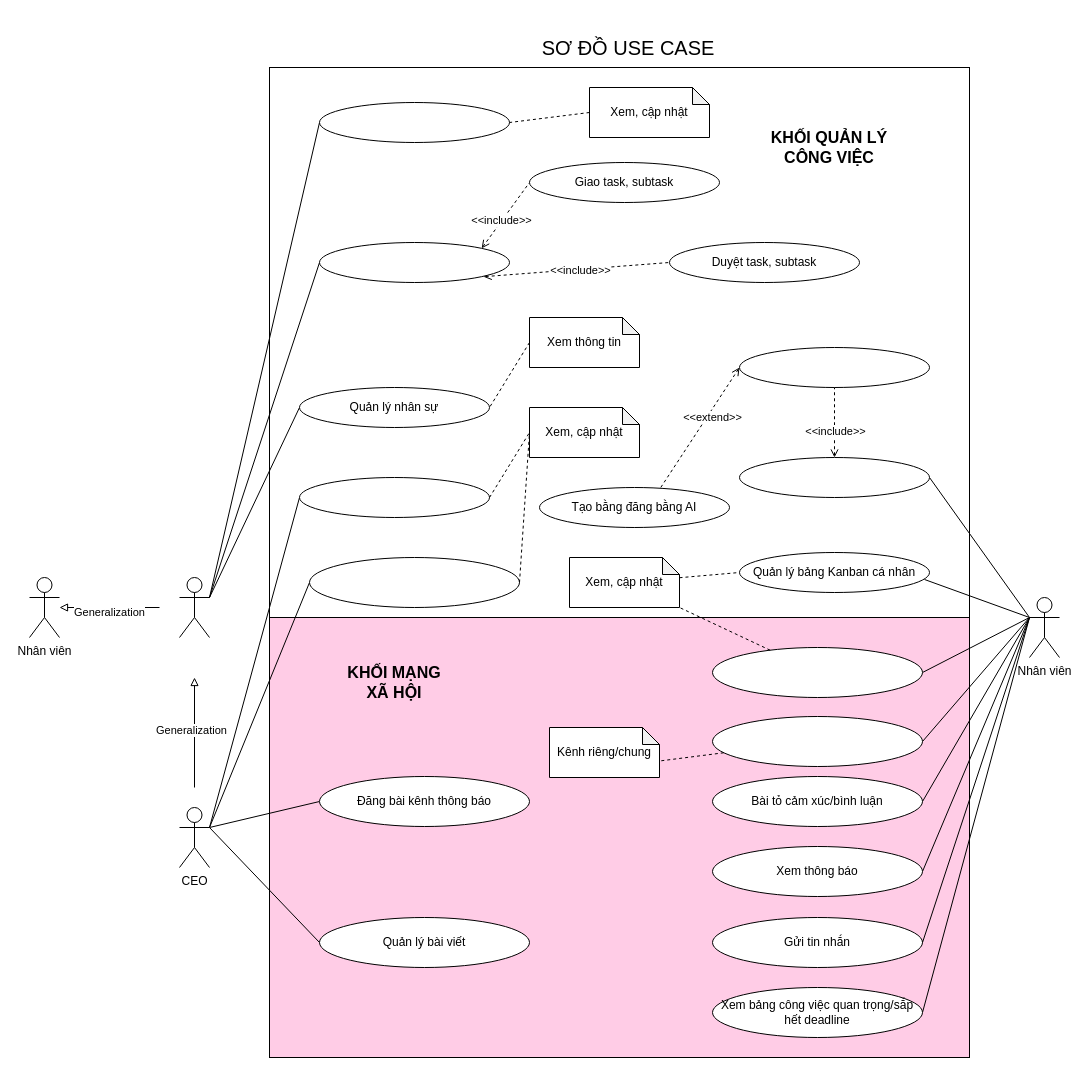
Some shapes in this 1088 by 1075 pixel diagram are drawn without their labels. Here are the shapes that lost their labels. From the top down, the centre of each, then its label:
point 414,122: Quản lý bảng Kanban phòng ban
point 414,262: Tạo, chỉnh sửa task, subtask
point 834,367: Báo cáo công việc
point 394,497: Quản lý bảng Kanban tổng
point 834,477: Thực hiện task, subtask
point 414,582: Quản lý bảng biểu, báo cáo tổng hợp
point 194,607: Trưởng phòng
point 817,672: Quản lý trang cá nhân
point 817,741: Đăng bài
